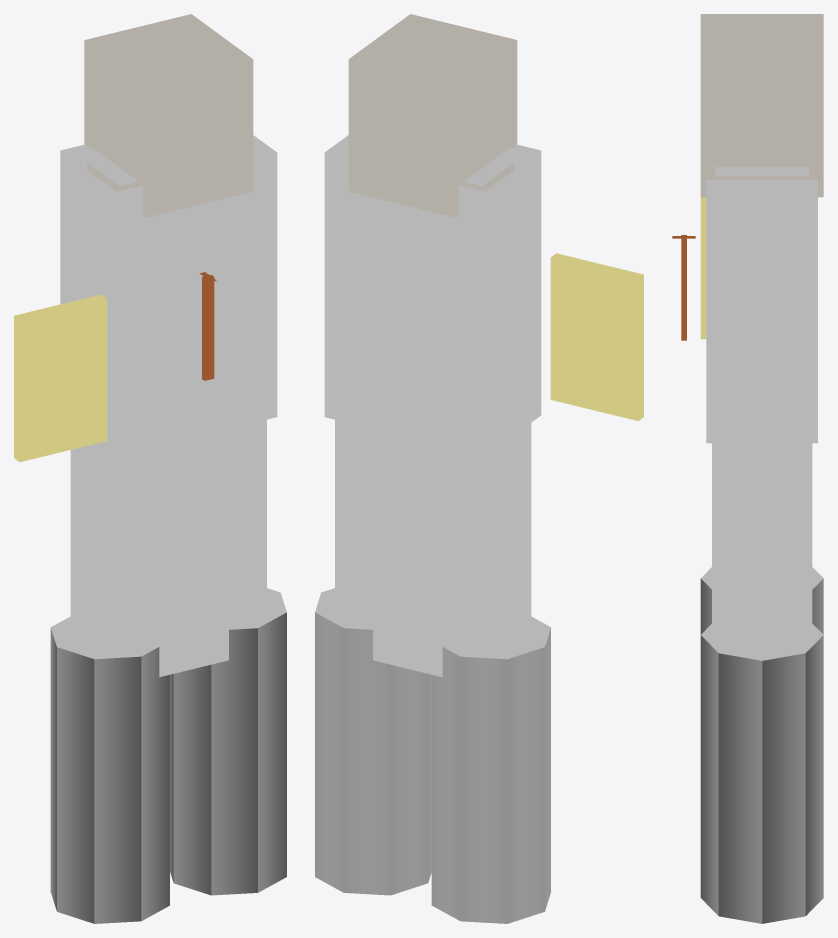
The model's file is staff-recruiter-idle.obj.
The picture shows the model from 3 angles, left to right: view 1: azimuth 30°, elevation 25°; view 2: azimuth 150°, elevation 25°; view 3: azimuth 270°, elevation 25°; orthographic projection.
Visible parts, largest first — view 1: staff-recruiter-idle; view 2: staff-recruiter-idle; view 3: staff-recruiter-idle.
Part boxes in pixels (x1=…): staff-recruiter-idle: x1=14, y1=14, x2=286, y2=923; staff-recruiter-idle: x1=315, y1=14, x2=643, y2=923; staff-recruiter-idle: x1=672, y1=14, x2=823, y2=923.
Bounding box in the file's own units: 0.6 × 1.64 × 0.271.
